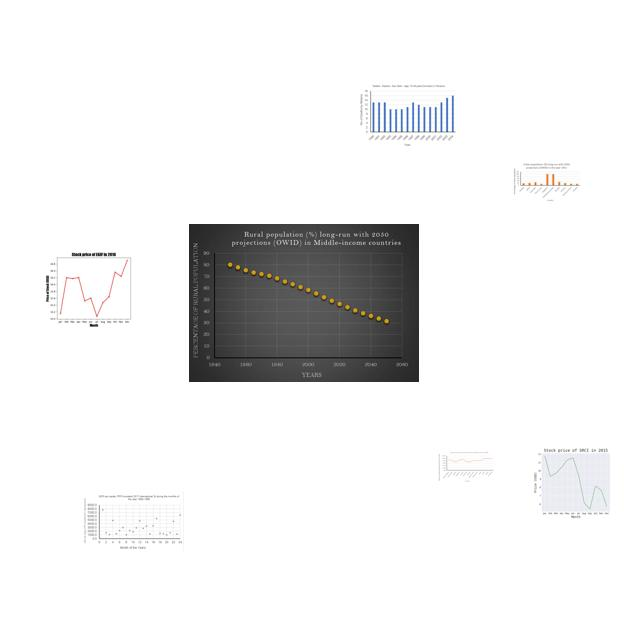Graph: (189, 224, 419, 382), (39, 248, 146, 328), (524, 444, 625, 520), (358, 83, 457, 148), (82, 491, 184, 551), (512, 162, 581, 202), (437, 450, 494, 483)
